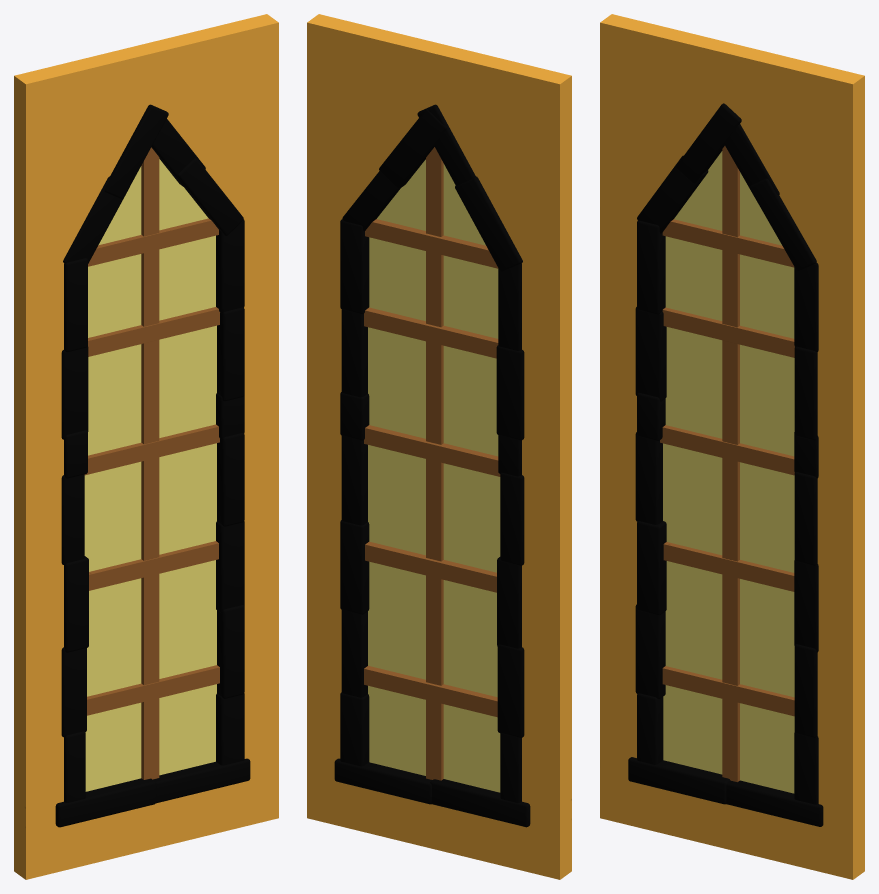
File: Wall H 2.fbx
The picture shows the model from 3 angles, left to right: view 1: azimuth 30°, elevation 25°; view 2: azimuth 150°, elevation 25°; view 3: azimuth 330°, elevation 25°; orthographic projection.
Parts seen in each view (by area): view 1: Wall H 2; view 2: Wall H 2; view 3: Wall H 2.
Boxes of the visible parts, x1,y1,x2,y2 form: Wall H 2: (14,14,278,879); Wall H 2: (307,14,571,879); Wall H 2: (600,14,864,879).
Bounding box in the file's own units: 249 × 747 × 30.16.
Materials: 1 (1 with a texture image).
